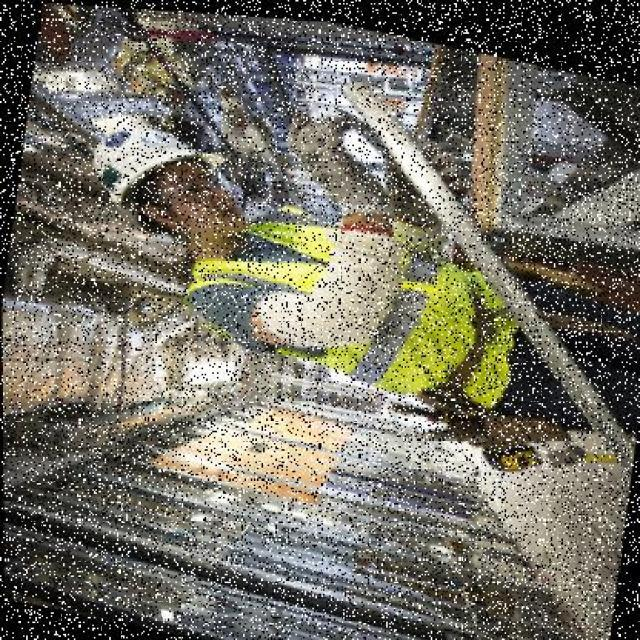helmet: (85, 103, 237, 229)
vest: (168, 169, 516, 399)
